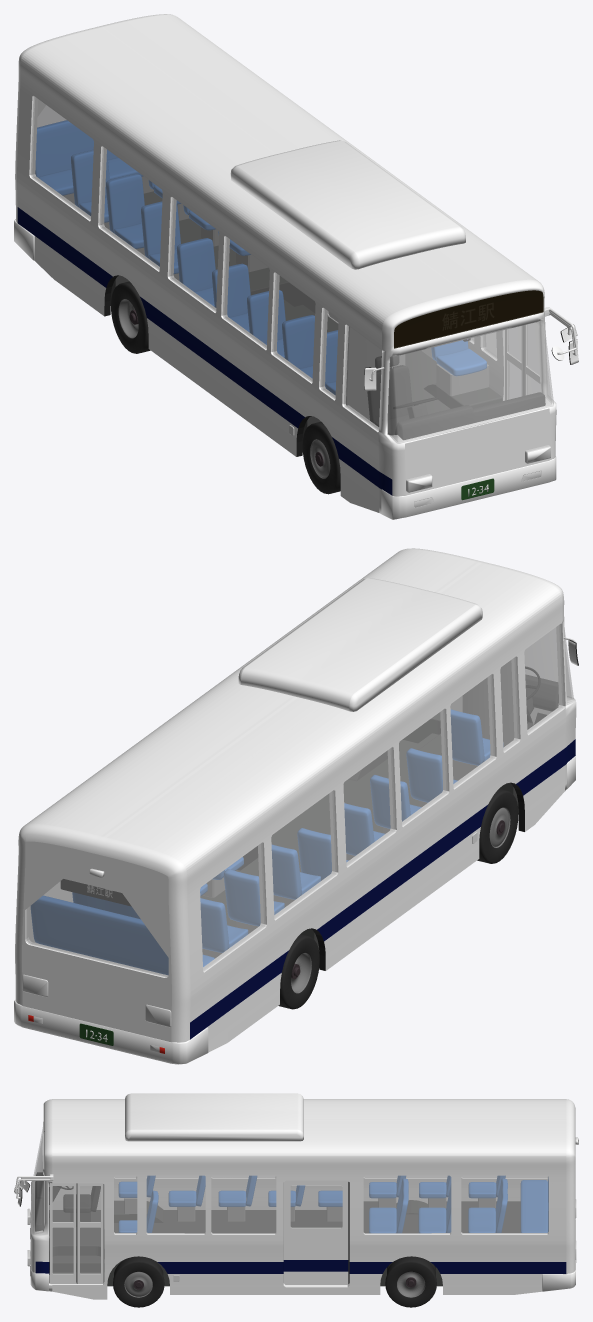
File: bus.fbx
3 views of the same model, one above another, from view 1: azimuth 30°, elevation 25°; view 2: azimuth 150°, elevation 25°; view 3: azimuth 270°, elevation 25° (orthographic). The views are drawn at different scales.
Parts seen in each view (by area): view 1: Body, AirConditioner, Glass.015, Seats, Glass.006, Glass.007, Seats.002, DestinationSignCover, Glass.008, Glass.009, Chassis, Glass.010 (+15 smaller); view 2: Body, AirConditioner, Glass.005, Seats.003, Seats, Glass.006, Glass.007, Seats.002, Glass.008, Chassis, Glass.009, Glass.010 (+11 smaller); view 3: Body, AirConditioner, Chassis, Glass.003, Glass.004, MainDoor, Glass.002, Glass.001, Seats.001, Cube.040, TyreRearLeft, TyreLeftFront (+18 smaller).
Part boxes in pixels (x1=…): Body: x1=15, y1=14, x2=556, y2=519; AirConditioner: x1=230, y1=140, x2=465, y2=269; Glass.015: x1=387, y1=319, x2=553, y2=443; Seats: x1=177, y1=238, x2=314, y2=377; Glass.006: x1=31, y1=96, x2=93, y2=220; Glass.007: x1=99, y1=147, x2=162, y2=270; Seats.002: x1=71, y1=150, x2=180, y2=273; DestinationSignCover: x1=394, y1=290, x2=543, y2=348; Glass.008: x1=169, y1=197, x2=218, y2=311; Glass.009: x1=222, y1=236, x2=269, y2=349; Chassis: x1=110, y1=191, x2=449, y2=439; Glass.010: x1=272, y1=272, x2=315, y2=382; Body: x1=15, y1=548, x2=576, y2=1064; AirConditioner: x1=238, y1=578, x2=482, y2=711; Glass.005: x1=26, y1=879, x2=168, y2=977; Seats.003: x1=31, y1=895, x2=214, y2=974; Seats: x1=297, y1=748, x2=457, y2=880; Glass.006: x1=200, y1=843, x2=265, y2=971; Glass.007: x1=271, y1=791, x2=336, y2=919; Seats.002: x1=200, y1=845, x2=320, y2=952; Glass.008: x1=343, y1=747, x2=395, y2=866; Chassis: x1=200, y1=712, x2=518, y2=951; Glass.009: x1=399, y1=709, x2=447, y2=825; Glass.010: x1=450, y1=674, x2=494, y2=787; Body: x1=31, y1=1099, x2=575, y2=1299; AirConditioner: x1=125, y1=1093, x2=303, y2=1141; Chassis: x1=49, y1=1201, x2=520, y2=1286; Glass.003: x1=363, y1=1175, x2=451, y2=1234; Glass.004: x1=461, y1=1175, x2=548, y2=1234; MainDoor: x1=283, y1=1180, x2=349, y2=1284; Glass.002: x1=211, y1=1175, x2=276, y2=1234; Glass.001: x1=146, y1=1175, x2=205, y2=1234; Seats.001: x1=369, y1=1178, x2=507, y2=1232; Cube.040: x1=290, y1=1185, x2=342, y2=1228; TyreRearLeft: x1=385, y1=1256, x2=436, y2=1307; TyreLeftFront: x1=113, y1=1256, x2=164, y2=1307.
Bounding box in the file's own units: 2.54 × 2.98 × 9.01.
